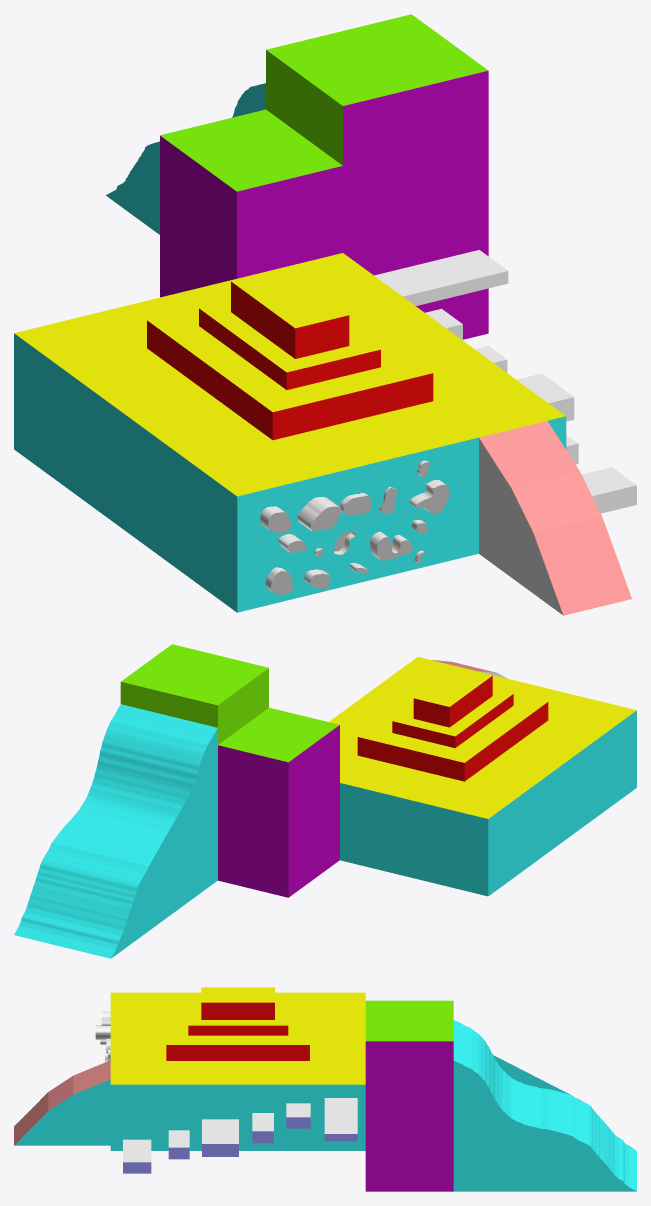
File: playground.fbx
The picture shows the model from 3 angles, top to bottom: view 1: azimuth 30°, elevation 25°; view 2: azimuth 150°, elevation 25°; view 3: azimuth 270°, elevation 25°; orthographic projection. The views are drawn at different scales.
Parts seen in each view (by area): view 1: Model; view 2: Model; view 3: Model.
Part boxes in pixels (bbox=[...]): Model: bbox=[14, 14, 636, 615]; Model: bbox=[14, 644, 636, 958]; Model: bbox=[14, 987, 636, 1191].
Size of the model in its own units: 467 by 247 by 929.
